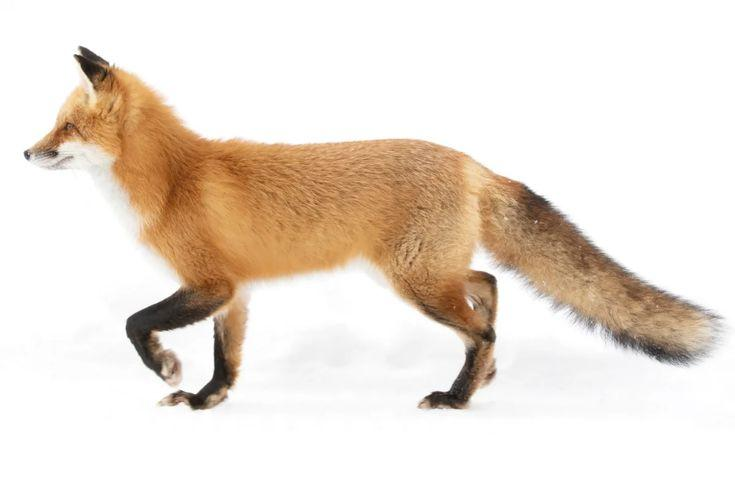fox: (22, 39, 723, 433)
